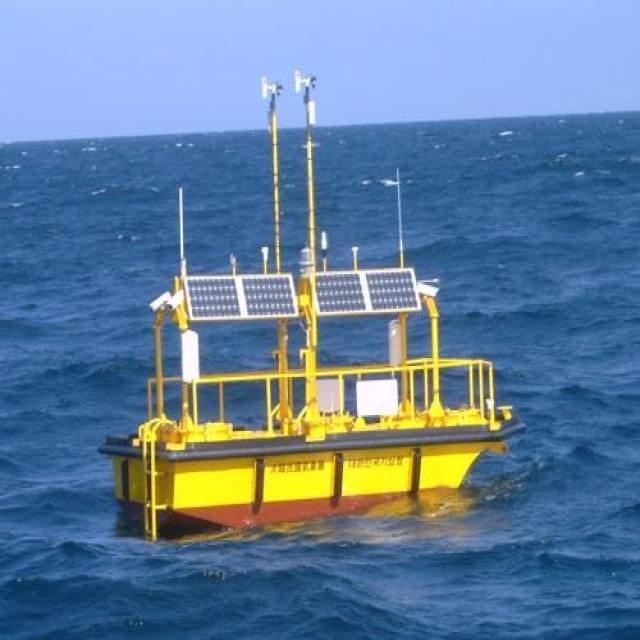2.5 sepcial mark: (110, 45, 533, 543)
